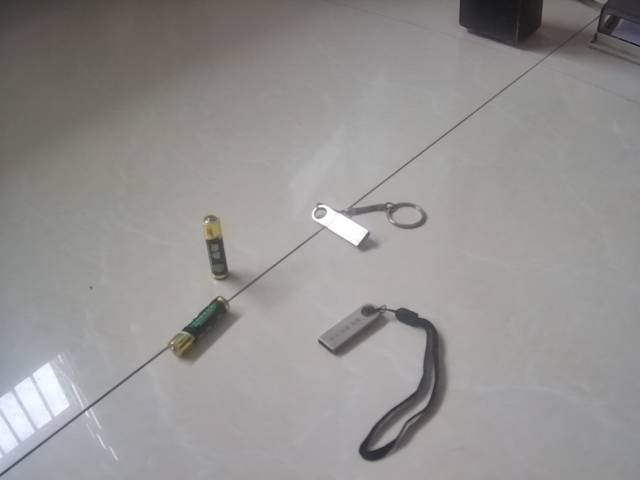U-disk: (316, 299, 447, 461), (306, 198, 433, 250)
battery: (164, 295, 233, 361), (199, 211, 235, 283)
